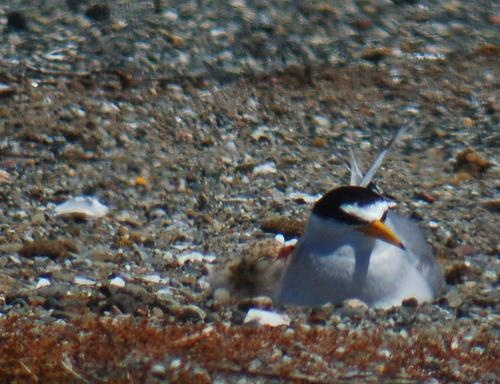bird: (271, 126, 457, 310)
